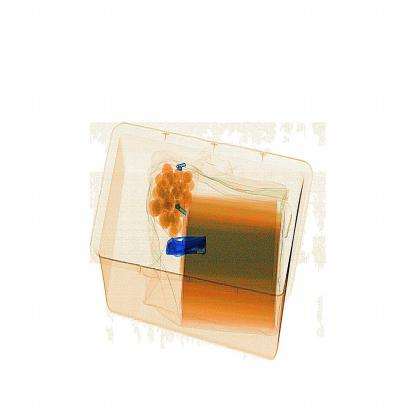knife: (161, 228, 216, 260)
